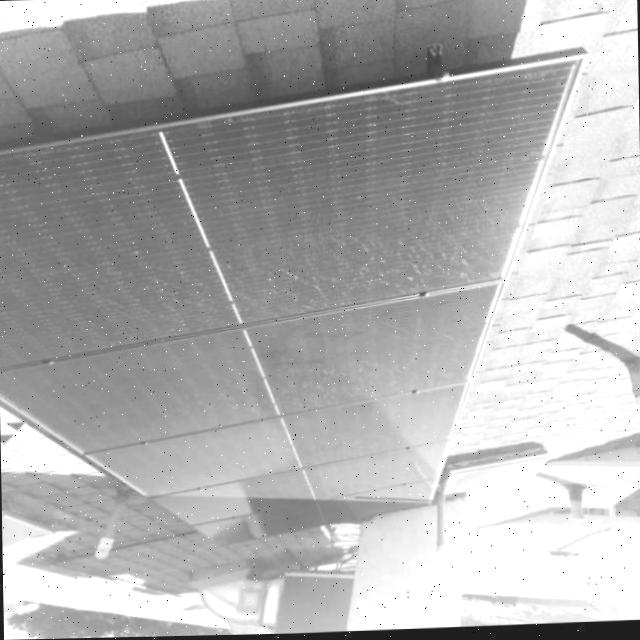Surface Contaminant: (0, 66, 574, 551)
